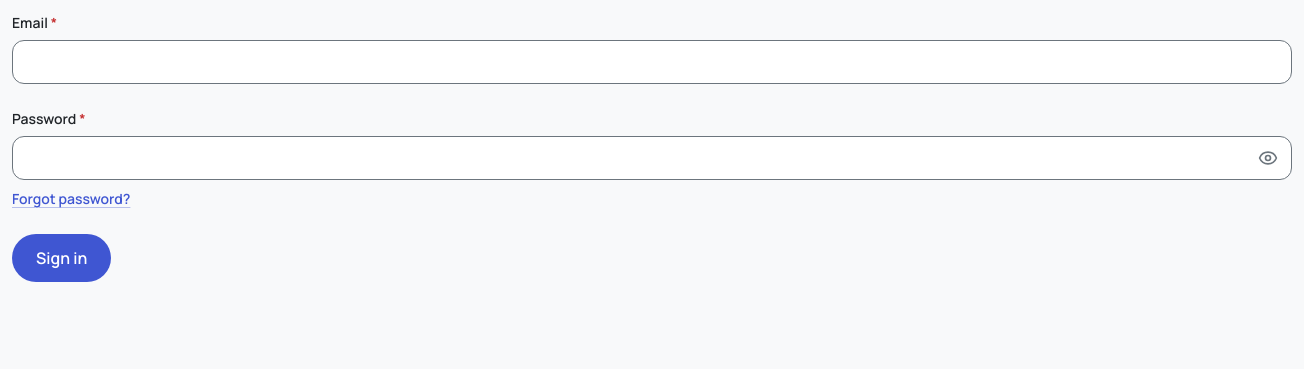
Test: SigninForm › turns a 429 with Retry-After 120 into a wait time
The width and height of the screenshot is (1304, 369).
Type "riley@example.test" into the field labelled "Email *" at (652, 62), box [12,40,1292,84]
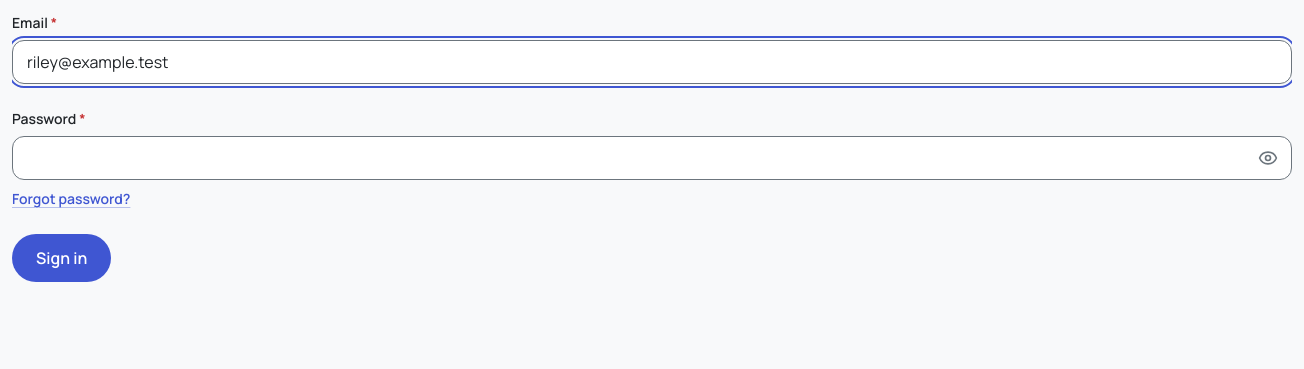
Type "correct horse battery" into the password field labelled "Password *" at (652, 158), box [12,136,1292,180]
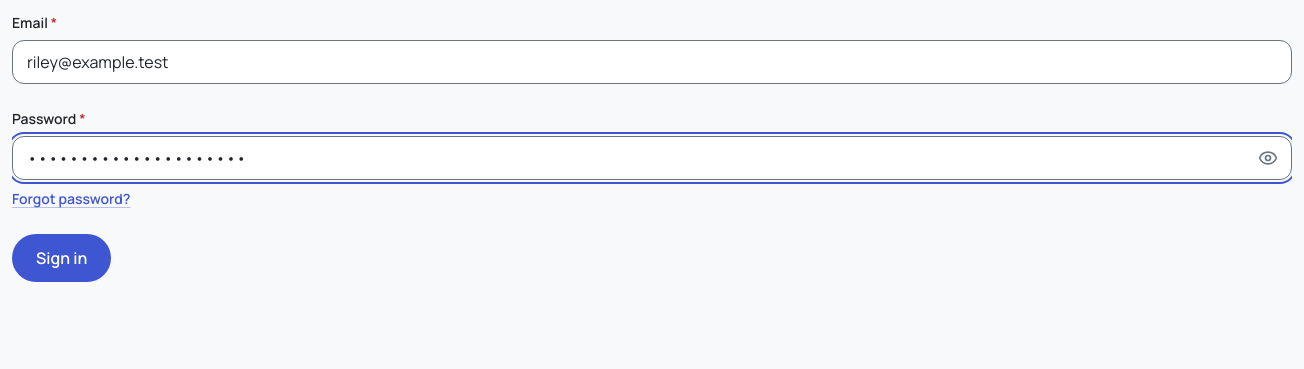
Click the button "Sign in" at (62, 258), box [12,234,111,282]
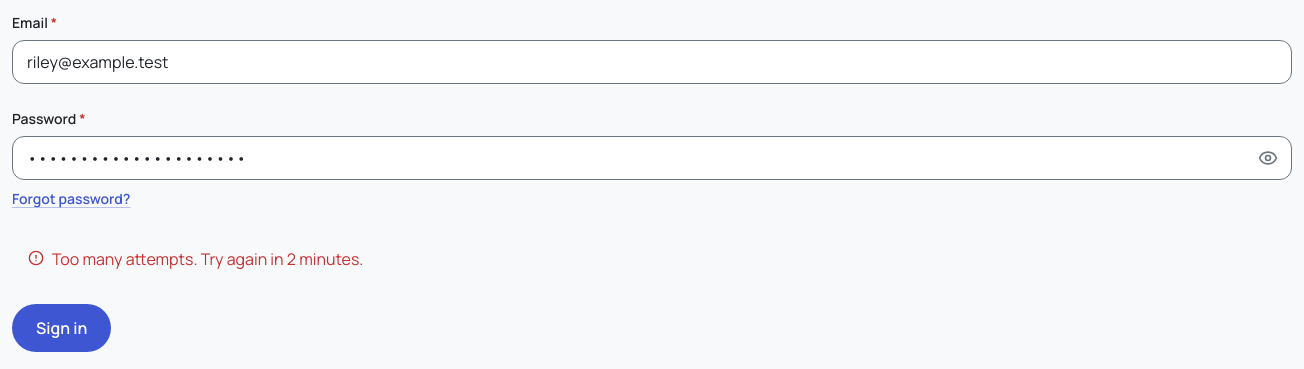
Result: the message reads "Too many attempts. Try again in 2 minutes." at [52,248,363,270]
